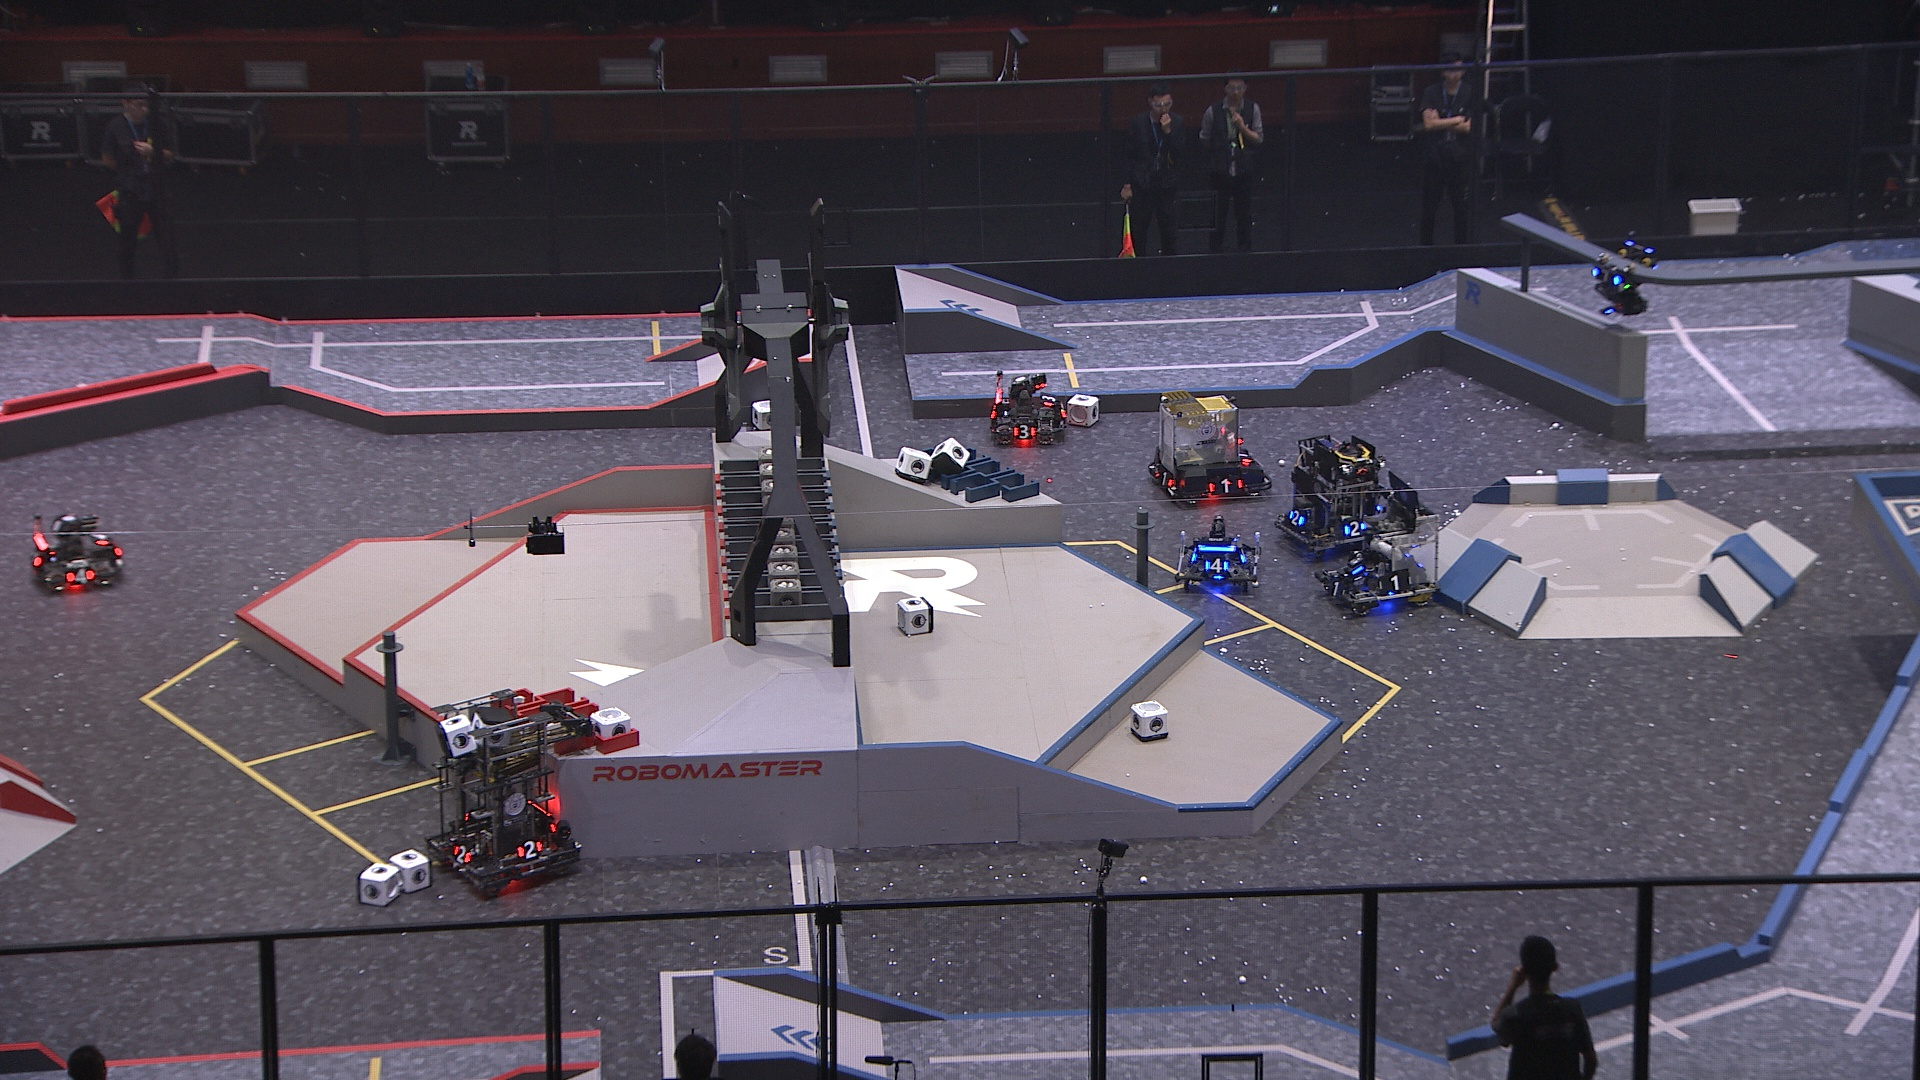armor: (1593, 264, 1623, 286), (516, 840, 546, 860), (1377, 575, 1414, 591), (1207, 479, 1244, 495), (448, 843, 471, 865), (1323, 576, 1346, 597), (67, 568, 94, 585), (87, 527, 109, 547), (1155, 467, 1174, 491), (1204, 556, 1229, 574), (1011, 425, 1036, 440), (1288, 509, 1305, 531), (1344, 520, 1367, 535), (1038, 390, 1058, 409), (1236, 450, 1251, 469), (1237, 546, 1247, 567)
car: (425, 684, 585, 894), (1315, 475, 1439, 617), (1276, 431, 1403, 555), (1147, 389, 1273, 505), (32, 510, 131, 595), (1174, 513, 1263, 595), (986, 367, 1072, 448)
watcher: (1588, 237, 1656, 318)
